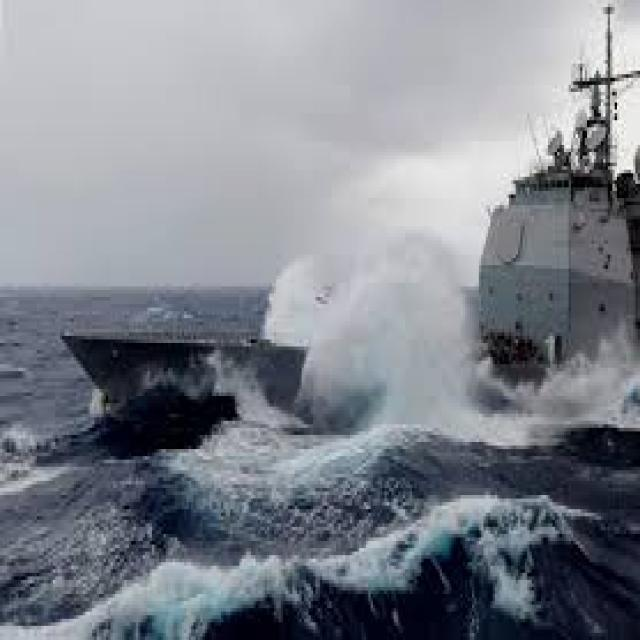navalvessels: (65, 21, 626, 456)
